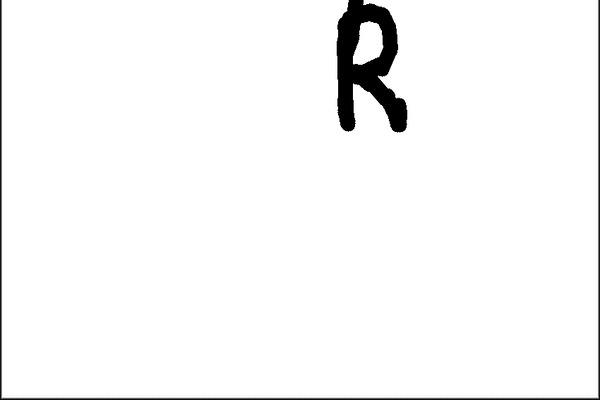R: (307, 0, 418, 156)
